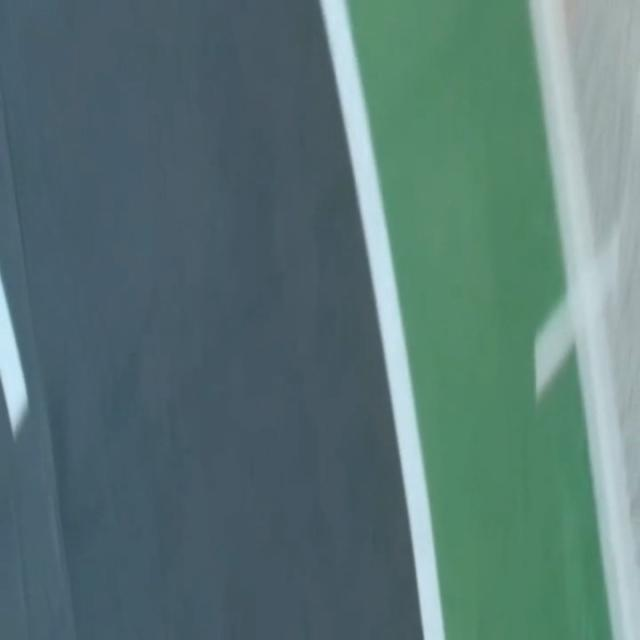center: (0, 271, 28, 436)
right: (319, 0, 444, 639)
